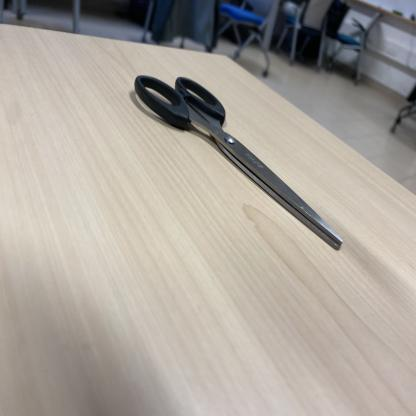scissors: (133, 76, 346, 251)
